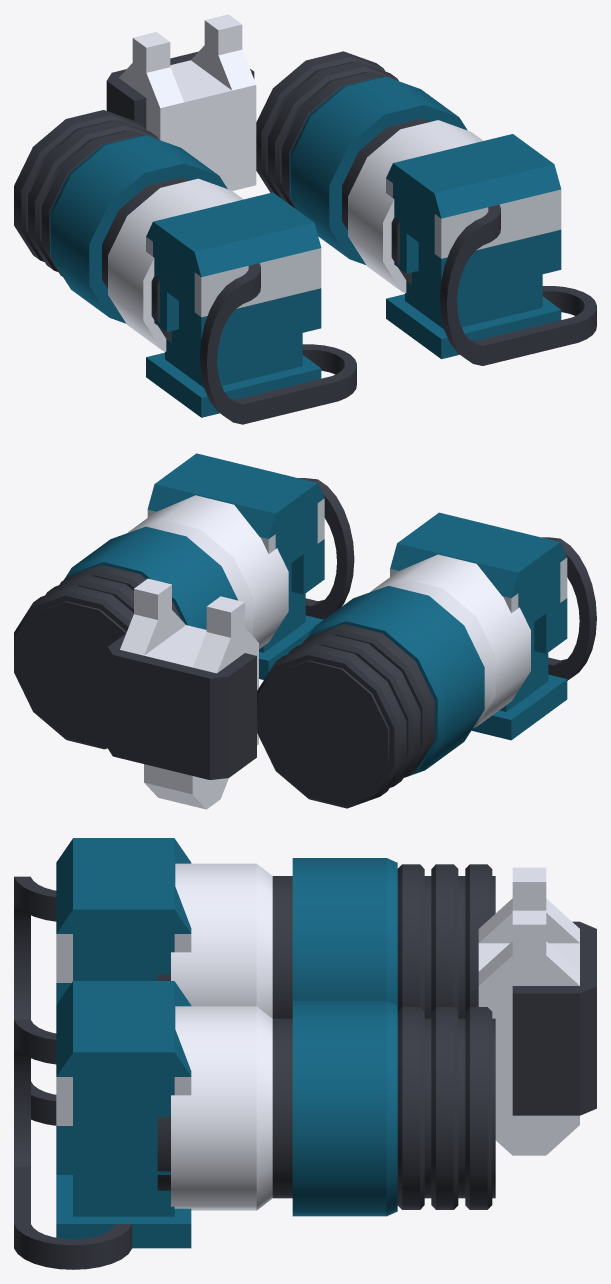
The model's file is Module2x2.fbx.
The picture shows the model from 3 angles, top to bottom: view 1: azimuth 30°, elevation 25°; view 2: azimuth 150°, elevation 25°; view 3: azimuth 270°, elevation 25°; orthographic projection. The views are drawn at different scales.
Parts seen in each view (by area): view 1: mergedBlocks; view 2: mergedBlocks; view 3: mergedBlocks.
Boxes of the visible parts, <box> form: mergedBlocks: <box>14,14,596,424</box>; mergedBlocks: <box>14,453,596,809</box>; mergedBlocks: <box>14,838,596,1269</box>.
Bounding box in the file's own units: 17.13 × 8 × 17.25.
